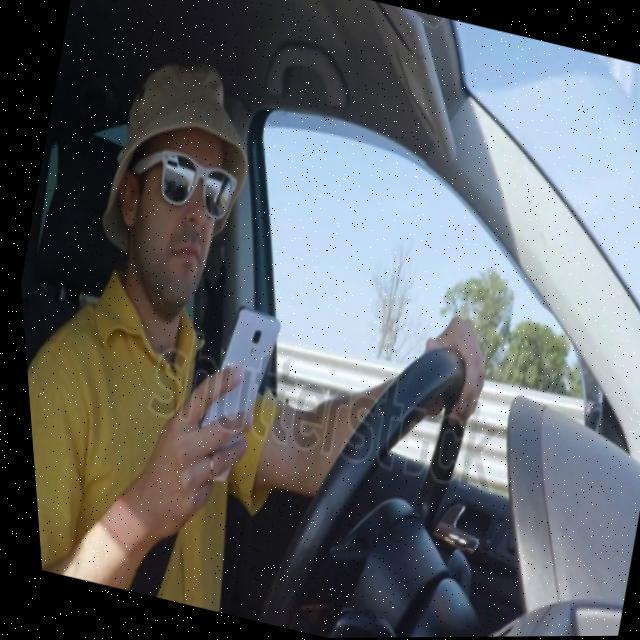PhoneCall: (170, 302, 286, 489)
